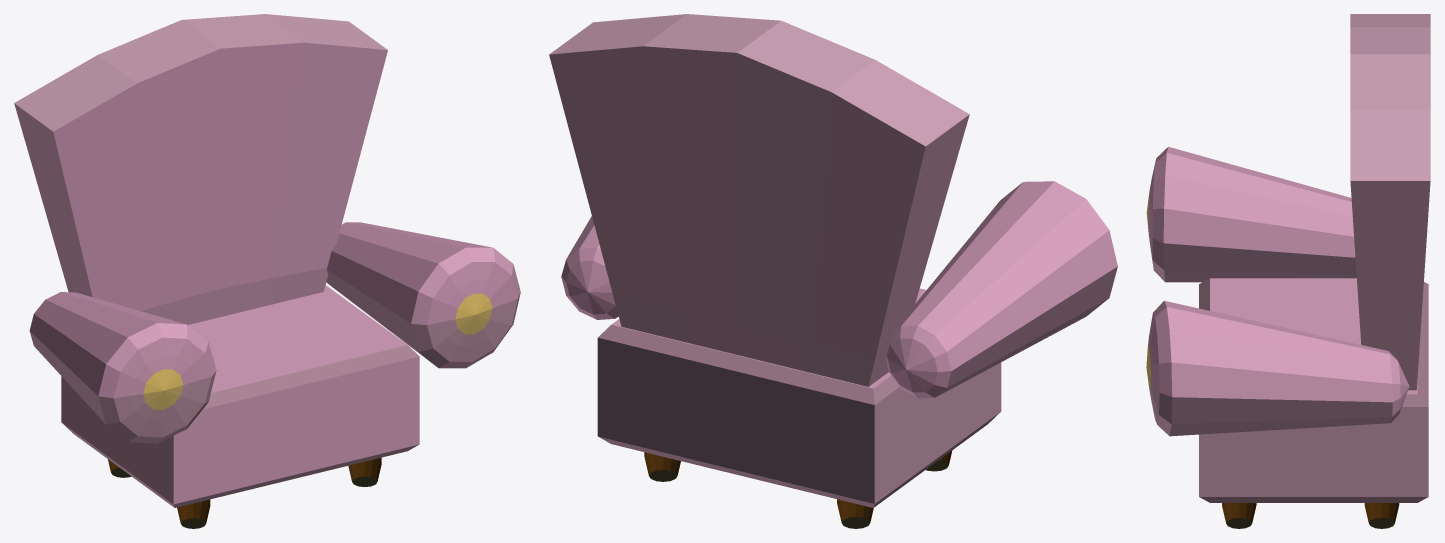
File: Poltrona Aidan.fbx
The picture shows the model from 3 angles, left to right: view 1: azimuth 30°, elevation 25°; view 2: azimuth 150°, elevation 25°; view 3: azimuth 270°, elevation 25°; orthographic projection. The views are drawn at different scales.
Visible parts, largest first — view 1: Cube; view 2: Cube; view 3: Cube.
Part boxes in pixels (bbox=[...]): Cube: bbox=[14, 14, 520, 528]; Cube: bbox=[549, 14, 1117, 528]; Cube: bbox=[1146, 14, 1430, 528].
Size of the model in its own units: 253 by 237 by 144.
Materials: 1 (1 with a texture image).
